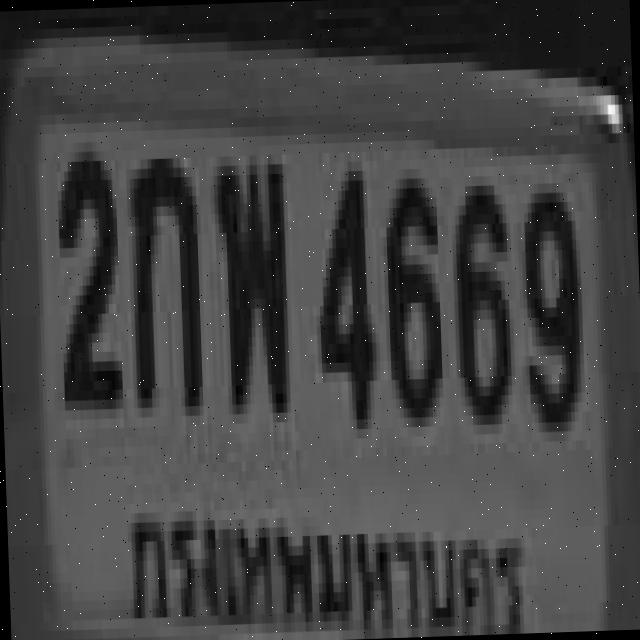10GorGai: (125, 148, 199, 408)
2: (52, 140, 119, 400)
39PhorPan: (212, 154, 286, 405)
4: (311, 160, 374, 420)
6: (380, 168, 440, 418), (449, 175, 508, 416)
9: (519, 182, 578, 423)
Bangkok: (122, 481, 532, 640)
